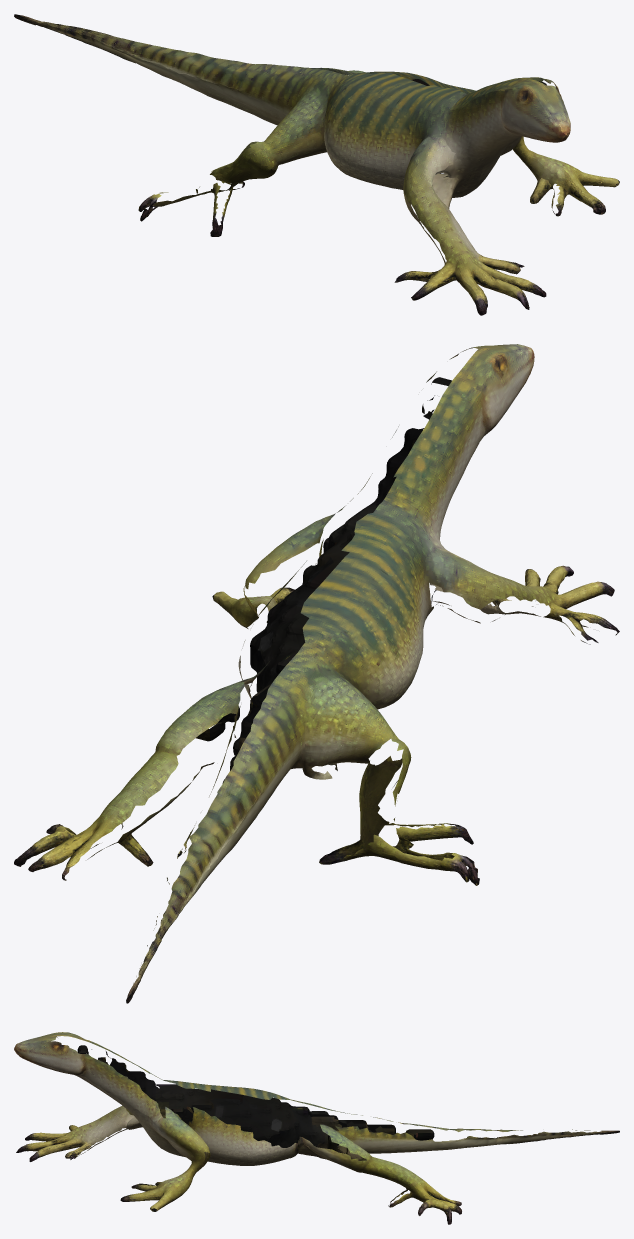
3 views of the same model, one above another, from view 1: azimuth 30°, elevation 25°; view 2: azimuth 150°, elevation 25°; view 3: azimuth 270°, elevation 25° (orthographic). The views are drawn at different scales.
Visible parts, largest first — view 1: geometry_0; view 2: geometry_0; view 3: geometry_0.
Part boxes in pixels (bbox=[...]): geometry_0: bbox=[14, 14, 619, 315]; geometry_0: bbox=[14, 344, 619, 1003]; geometry_0: bbox=[14, 1032, 619, 1224].
Size of the model in its own units: 0.4483 by 0.2928 by 0.9833.
Materials: 3 (1 with a texture image).
